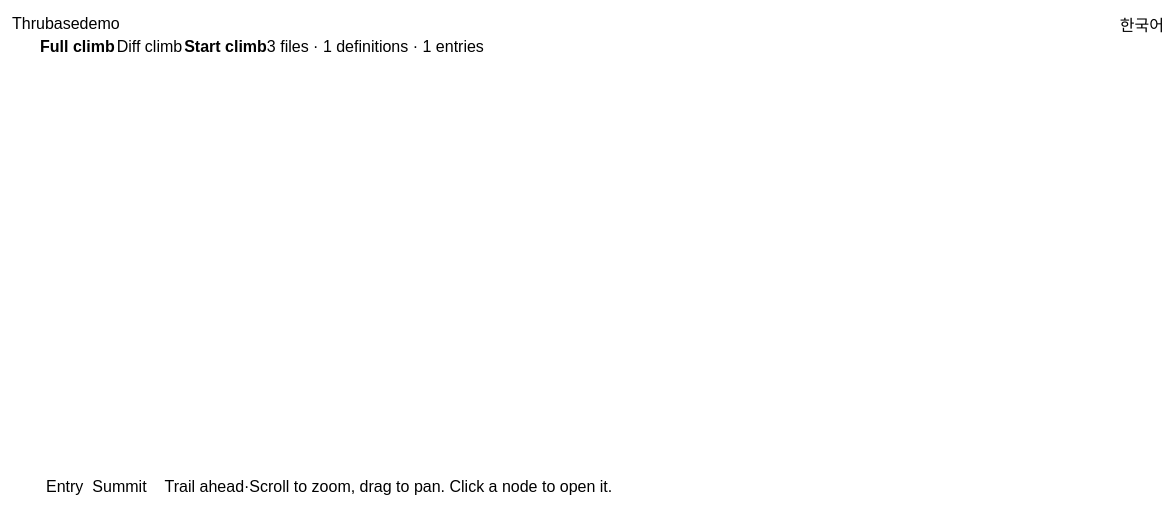
Test: App › answers locate questions from editor clicks in VS Code
The image size is (1176, 512).
Click the button "Start climb" at (226, 47), box [184, 38, 267, 56]
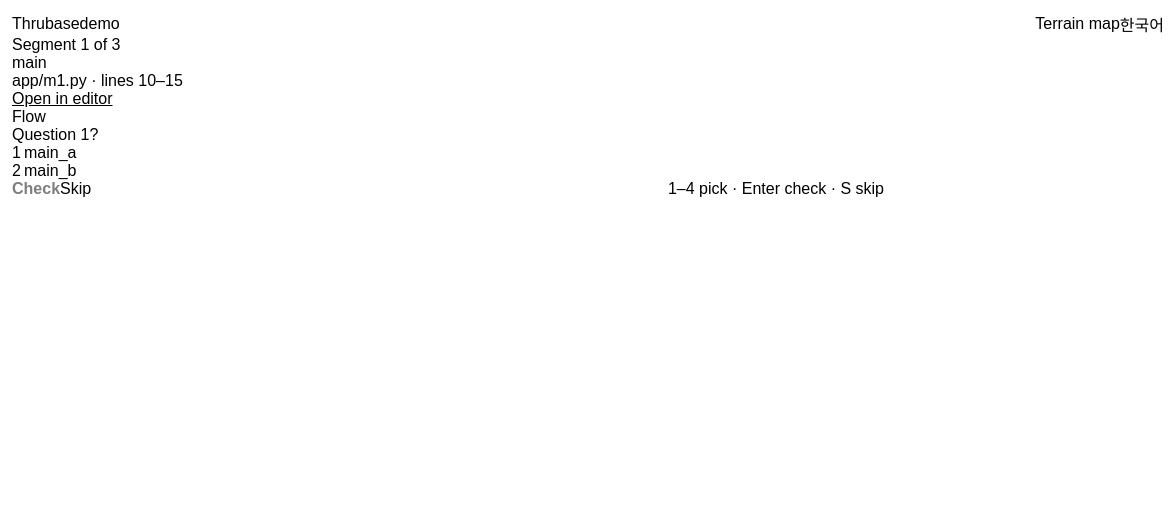
Expected: the text "Question 1?" is shown, [12, 126, 98, 143]
Click the button "Skip" at (76, 189), box [60, 180, 91, 198]
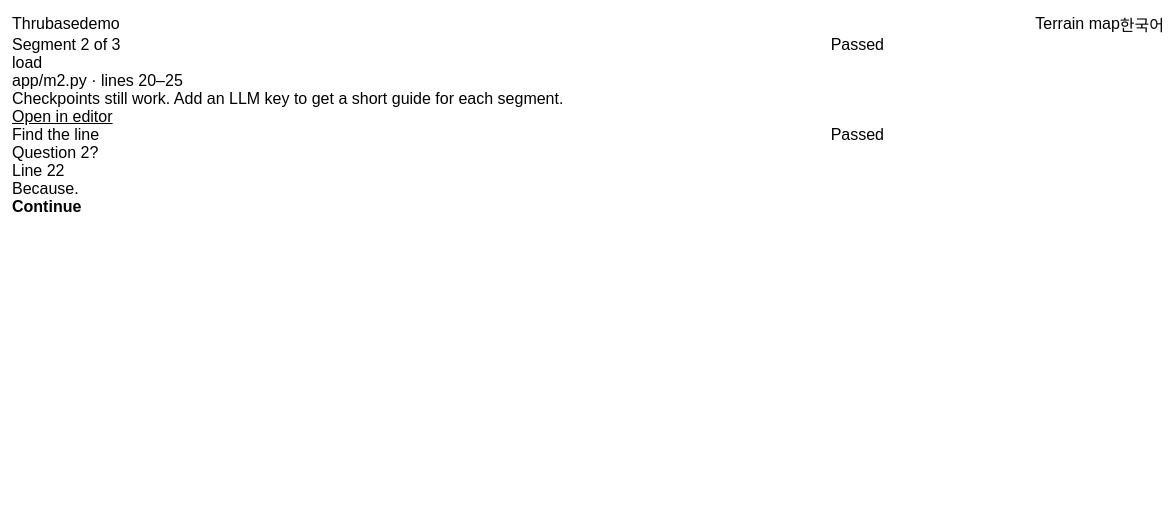
Expected: the text "Question 2?" is shown, [12, 144, 98, 161]
Expected: the text "Click the line in the editor" is shown, [12, 162, 64, 179]
Expected: the text "Because." is shown, [12, 180, 79, 198]
